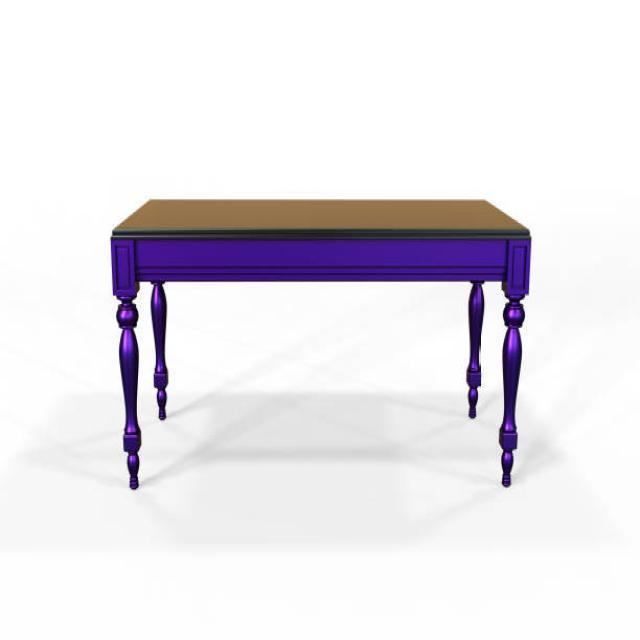table: (109, 197, 532, 490)
